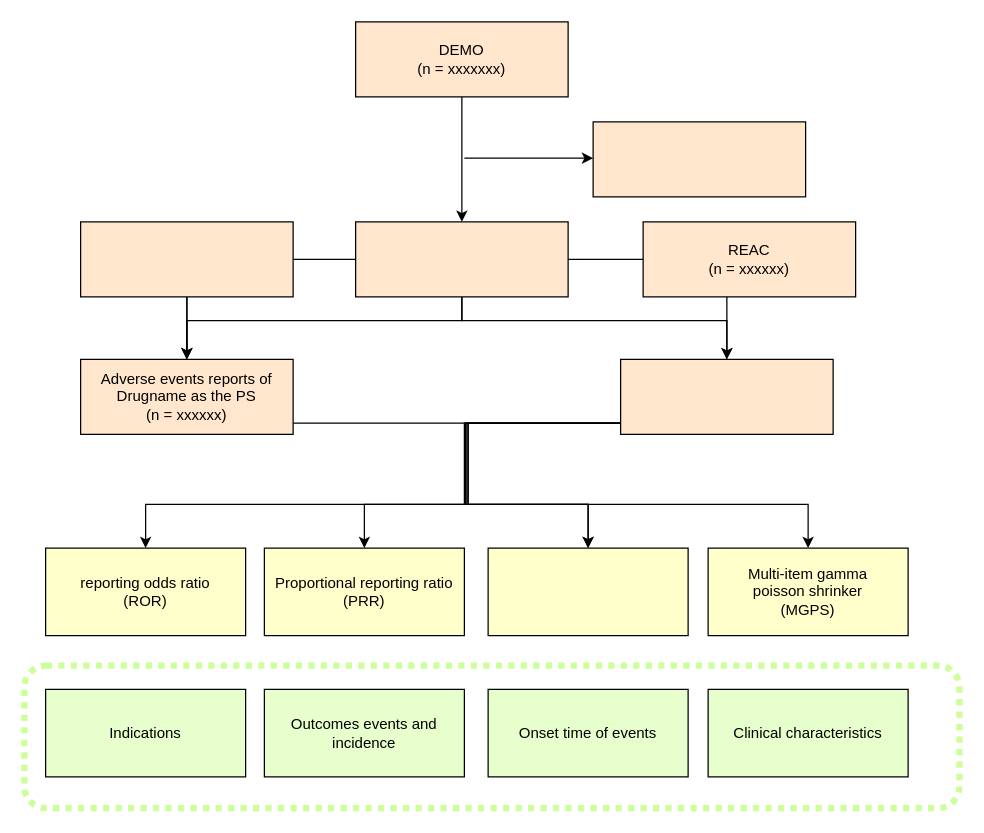
The diagram is 984 pixels wide and 833 high, and some of its shapes have lost their labels. Here are the shapes that lost their labels. From the top down, the box of each, then its label:
(592, 121, 806, 197): Duplication records (n = xxxxxx )
(79, 221, 293, 297): DRUG (n = xxxxxxx )
(354, 221, 568, 297): DEMO removed duplication (n = xxxxx )
(619, 358, 833, 434): Adverse events induced by Drugname as the PS (n = xxxxxx )
(487, 547, 688, 636): Bayesian confidence propagation neural network （BCPNN）
